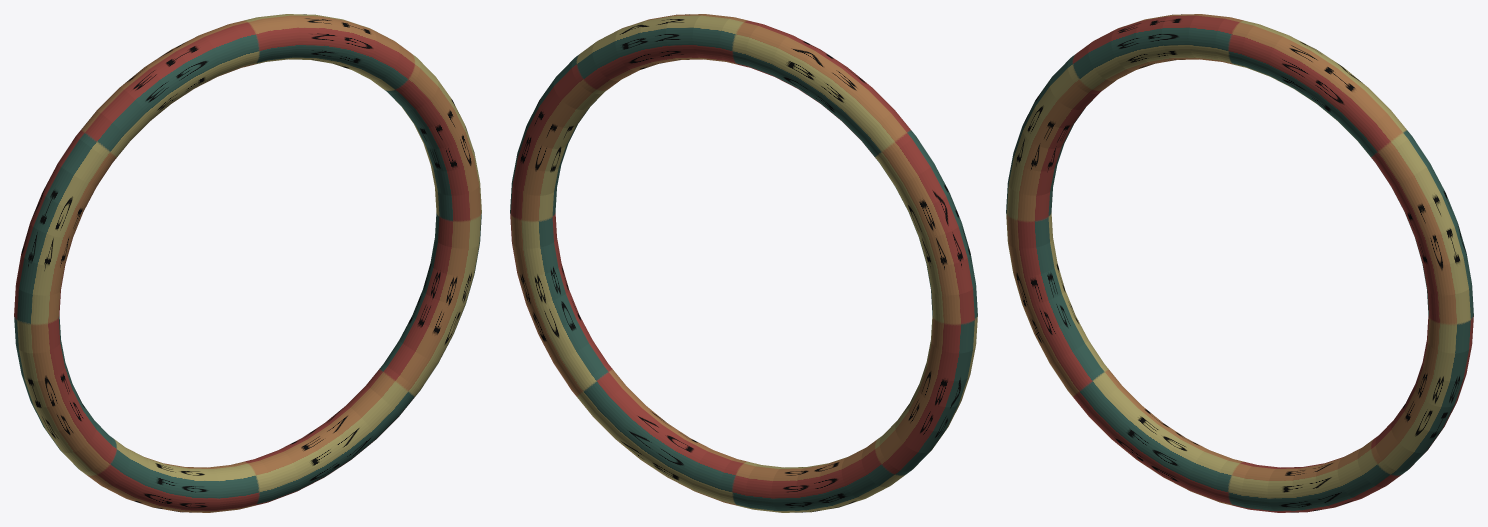
Rendered from texture_torus_R30_r3.glb.
3 renders of one model, left to right at view 1: azimuth 30°, elevation 25°; view 2: azimuth 150°, elevation 25°; view 3: azimuth 330°, elevation 25°, orthographic.
Visible parts, largest first — view 1: world; view 2: world; view 3: world.
Part boxes in pixels (bbox=[...]): world: bbox=[14, 14, 481, 512]; world: bbox=[510, 14, 977, 512]; world: bbox=[1006, 14, 1473, 512].
Size of the model in its own units: 32.8 by 32.74 by 2.79.
Materials: 1 (1 with a texture image).
